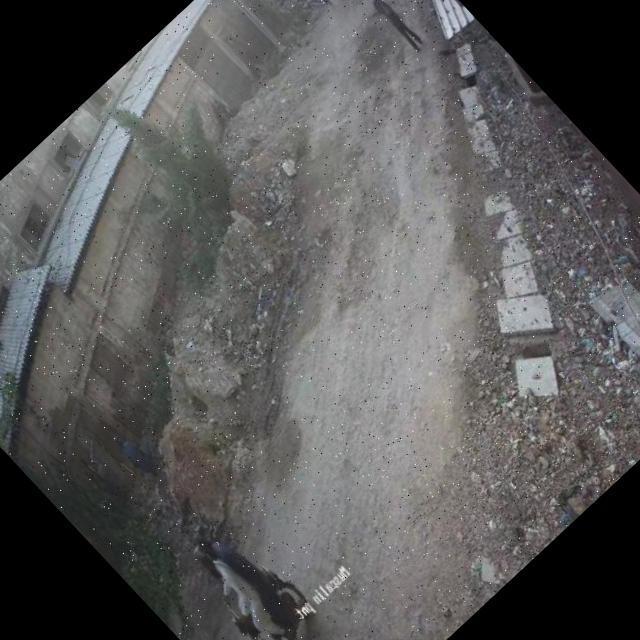person: (182, 536, 299, 640), (192, 520, 300, 632), (363, 0, 427, 53), (291, 0, 337, 11)
